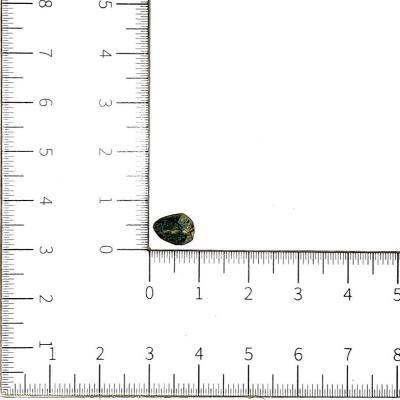archeology: (152, 213, 196, 248)
